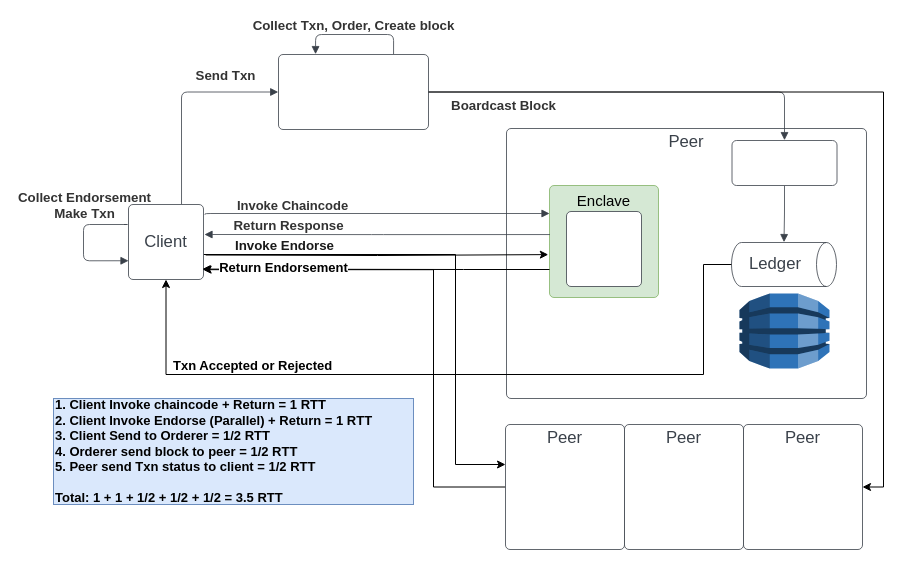
Some shapes in this 909 by 567 pixel diagram are drawn without their labels. The shapes that lost their labels are listed below. From the top down, each one's centre as x and y in pixels, then its label:
(353,91): Ordering Service
(784,162): Block & Txn Validator
(603,248): chaincode
(784,330): worldstate
